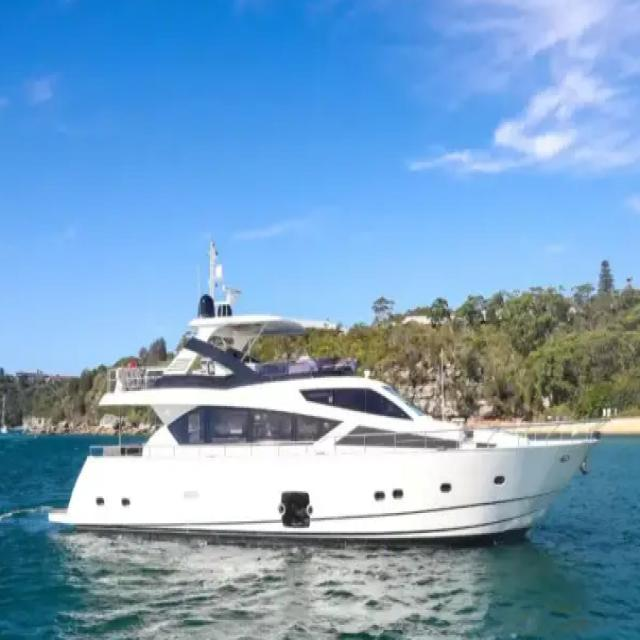houseboat: (46, 244, 606, 548)
